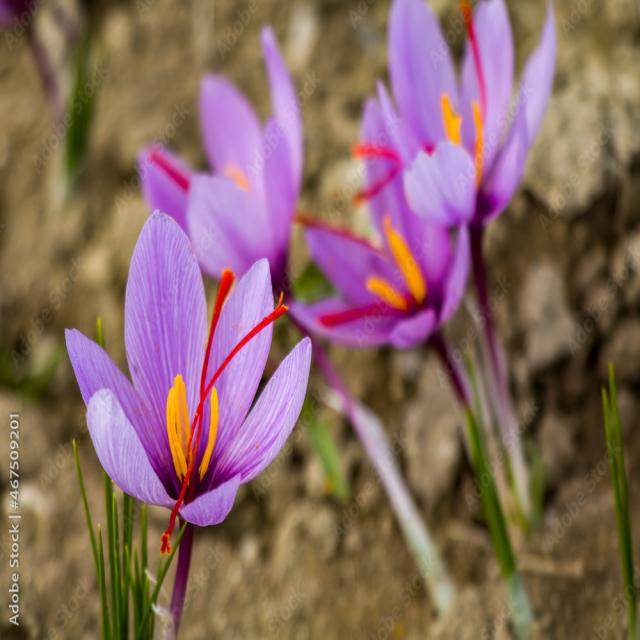saffron open: (65, 212, 311, 633), (389, 0, 556, 510), (290, 144, 469, 405), (140, 26, 302, 290)
